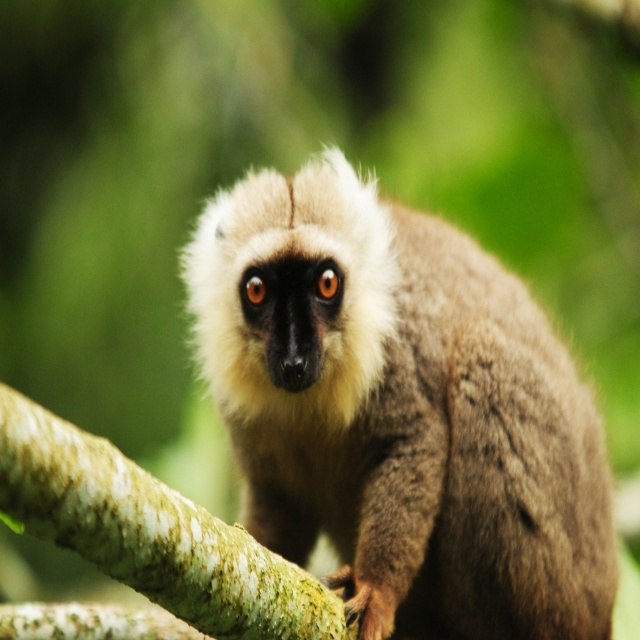Monkey: (173, 140, 627, 640)
